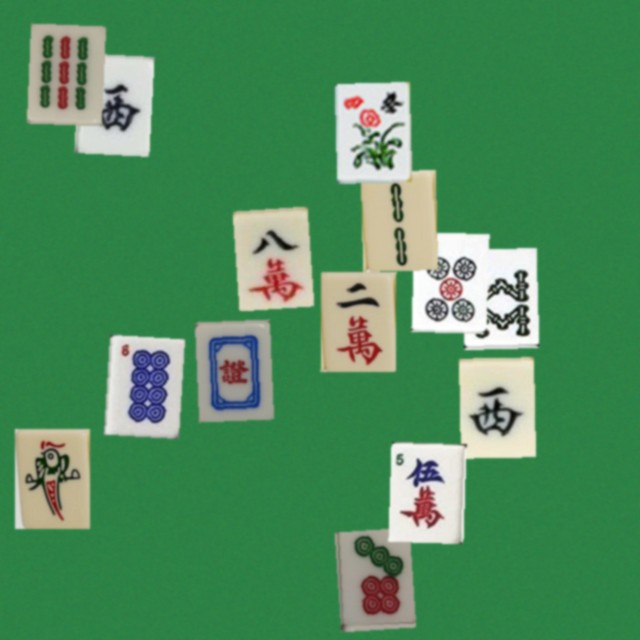tile: (194, 319, 269, 419), (103, 334, 178, 434), (232, 206, 307, 306), (74, 53, 149, 153), (320, 271, 395, 371), (461, 247, 536, 347), (458, 357, 533, 457), (411, 231, 486, 331), (26, 23, 101, 123), (360, 170, 435, 270), (334, 81, 409, 181), (14, 428, 89, 528), (334, 527, 409, 627), (388, 441, 463, 541)
